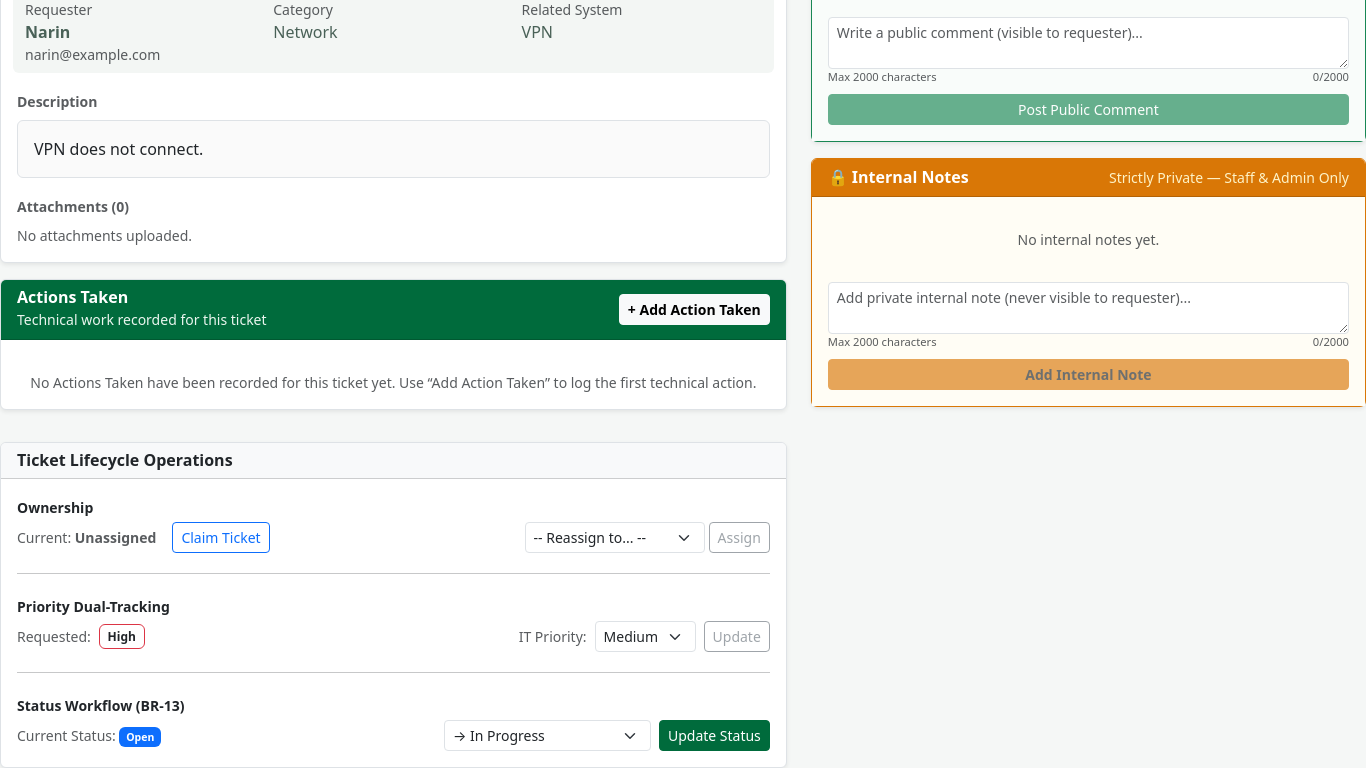
Scenario: Ticket workflow actions (backend enforced, UI exposed) › handles stale/conflicting updates safely with a clear conflict message
(page scrolled)
Select "→ In Progress" in the dropdown named "next status" at (547, 736), box 444,720 -> 651,751
Click the button "Update Status" at (714, 736), box 659,720 -> 770,751
(page scrolled)
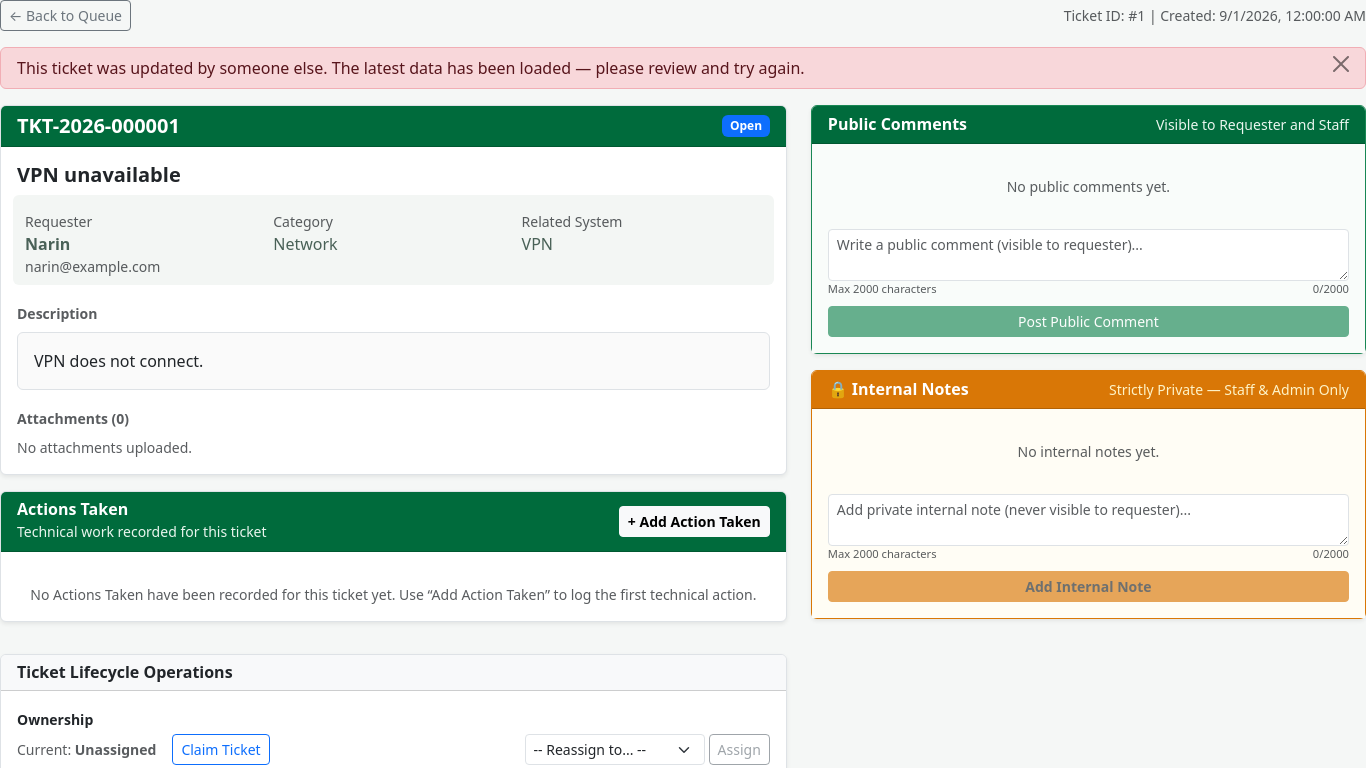
expect the text "updated by someone else" is shown: met, box 17,57 -> 805,79
